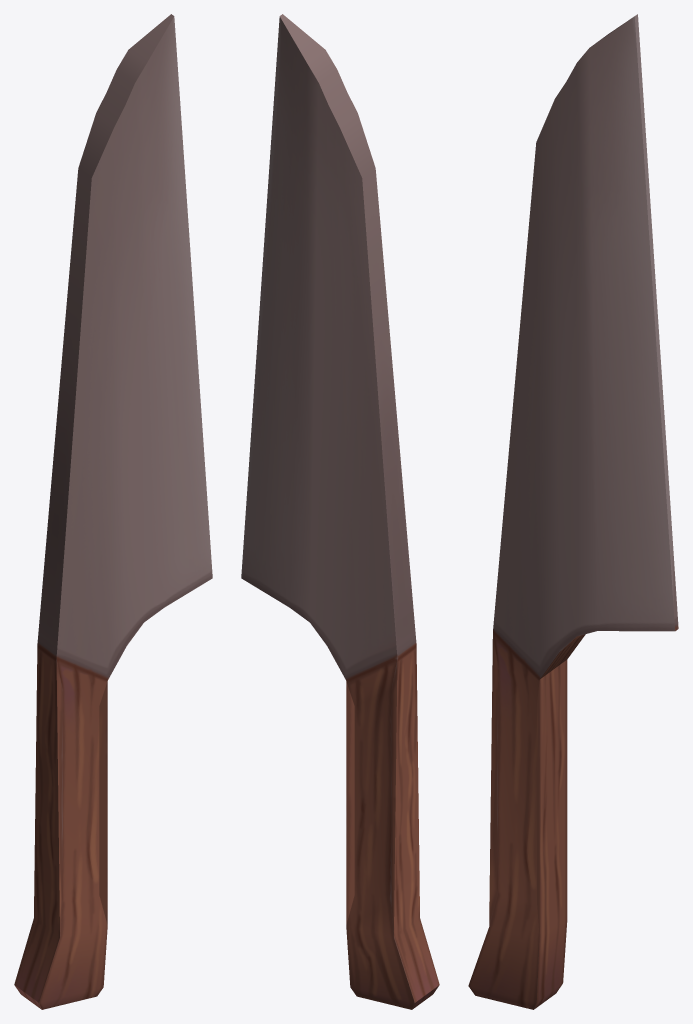
File: knife shump asset.fbx
The picture shows the model from 3 angles, left to right: view 1: azimuth 30°, elevation 25°; view 2: azimuth 150°, elevation 25°; view 3: azimuth 330°, elevation 25°; orthographic projection. The views are drawn at different scales.
Visible parts, largest first — view 1: knife; view 2: knife; view 3: knife.
Boxes of the visible parts, left/top/right/bottom form: knife: left=14, top=14, right=212, bottom=1009; knife: left=241, top=14, right=439, bottom=1009; knife: left=468, top=14, right=678, bottom=1009.
Size of the model in its own units: 34.66 by 171 by 9.23.
